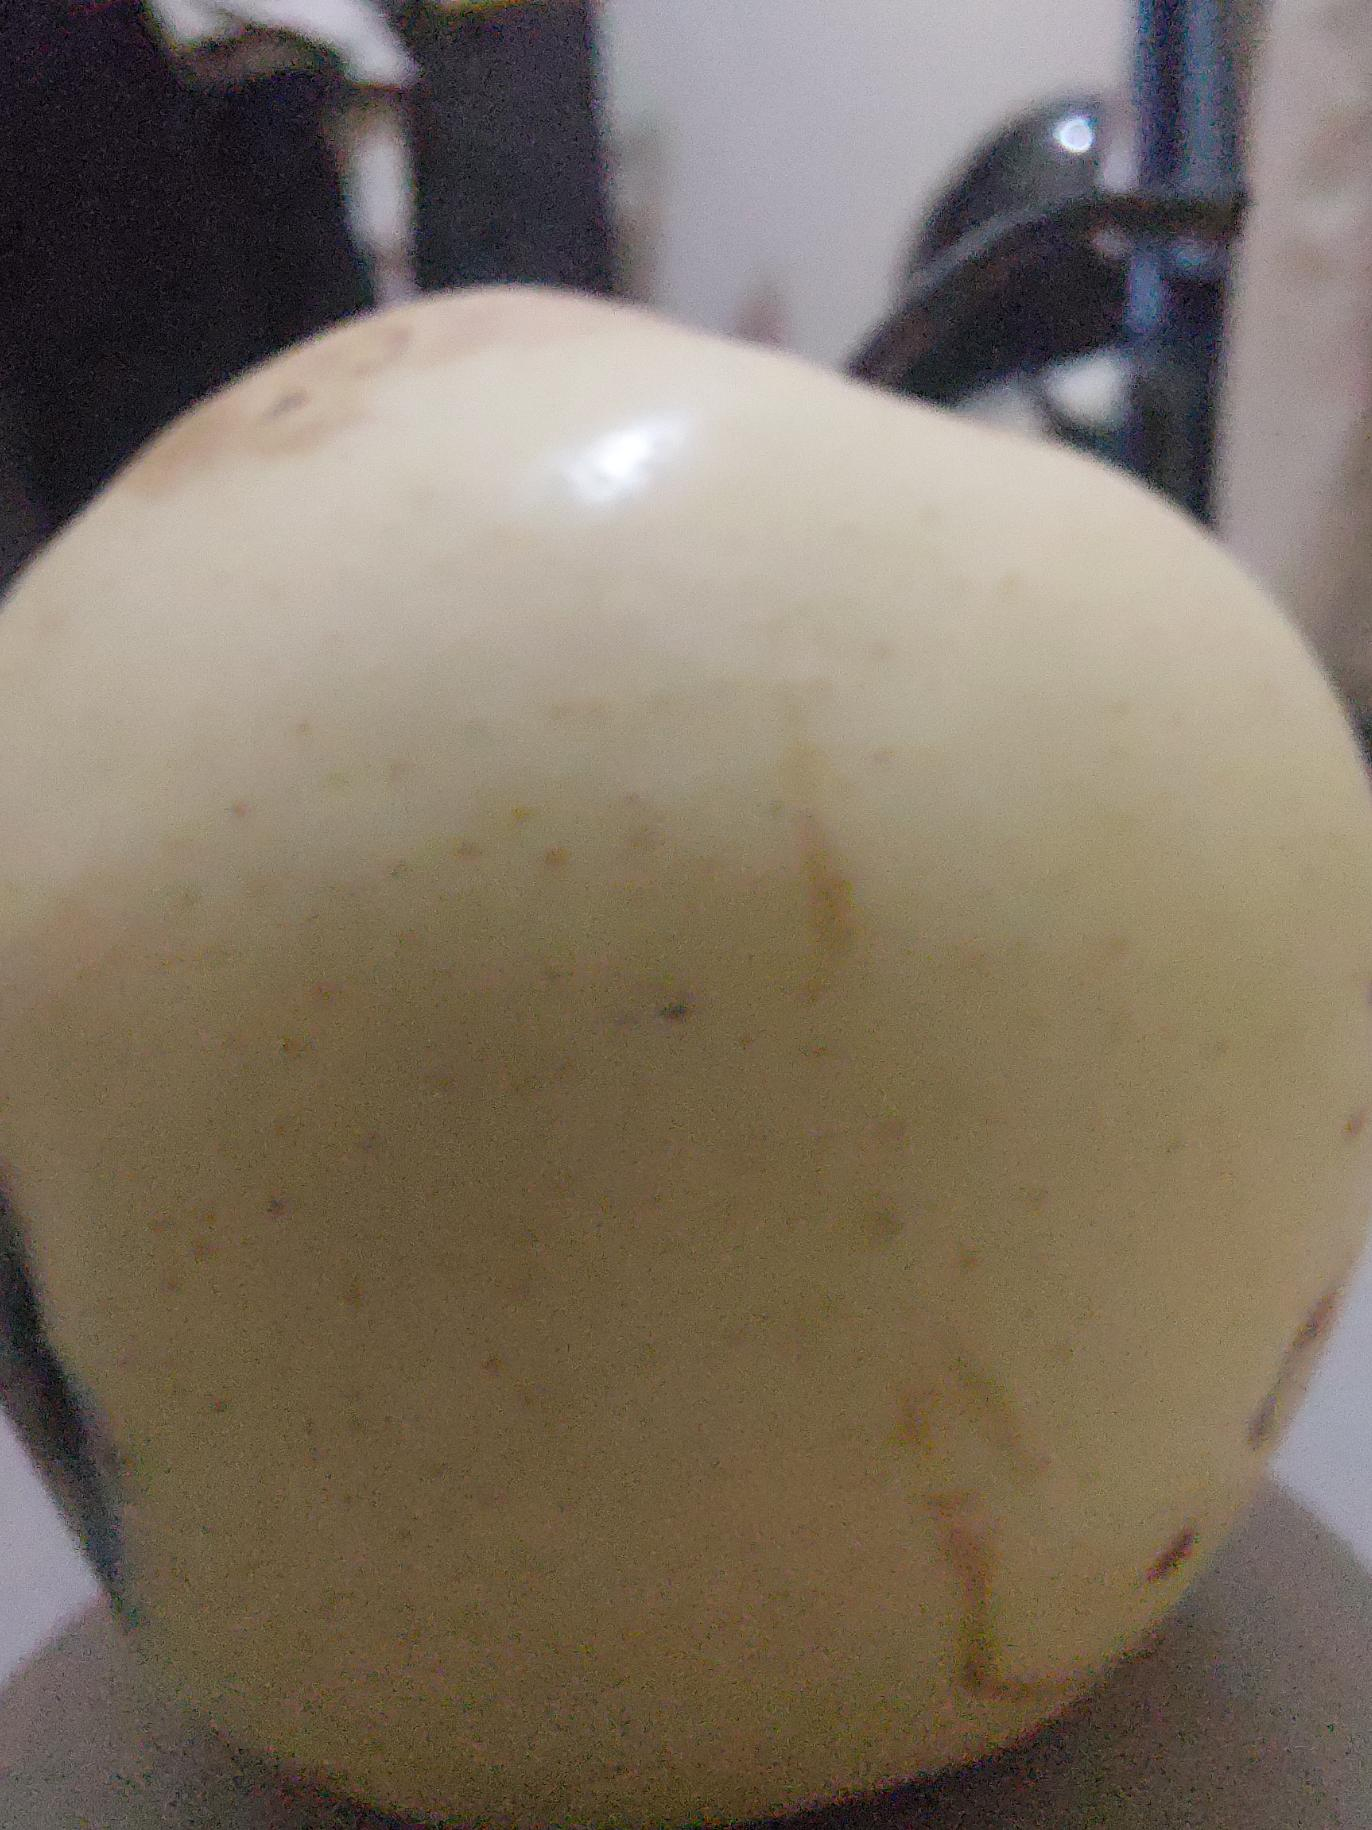Bad Pear: (0, 272, 1372, 1830)
